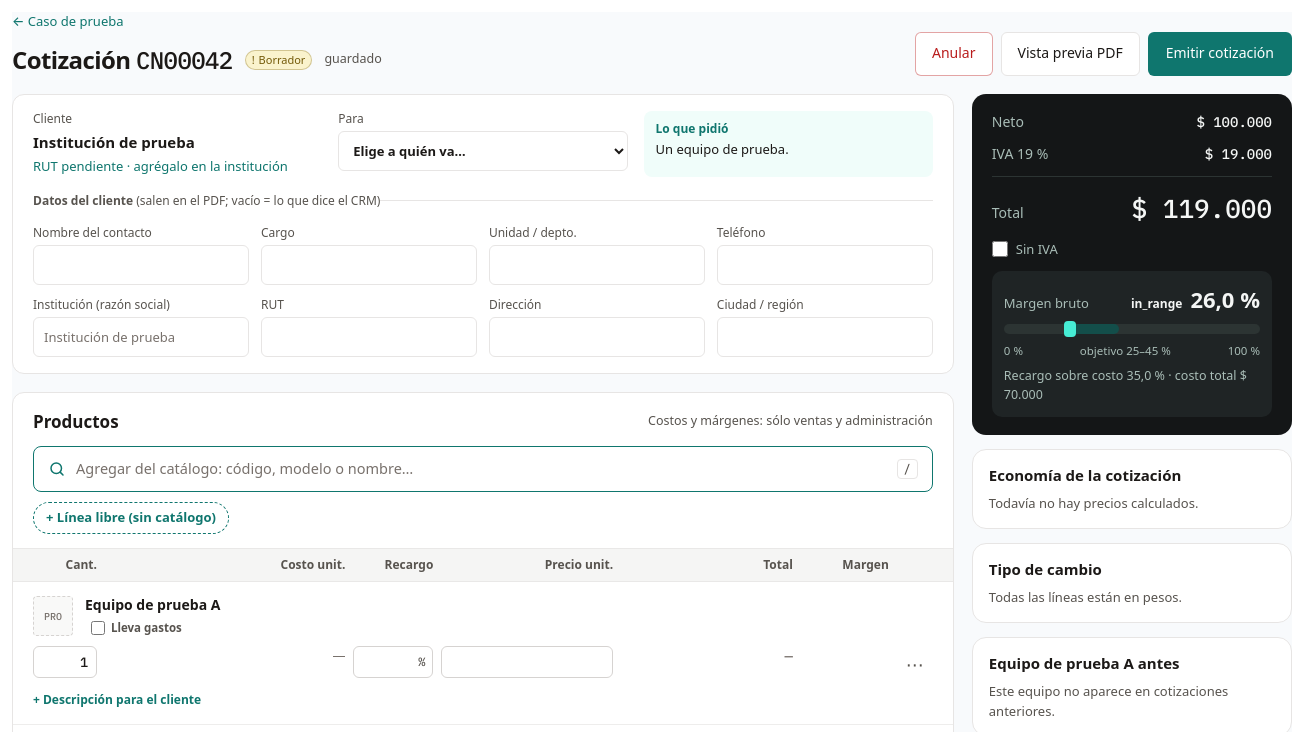
Test case: Cotizador page — the draft editor › offers a retry when the save fails
Step 1. Replace the text in the field named "Cantidad de la línea 1" with "2" → (65, 662), box [33, 646, 97, 678]
Wait 1250 ms
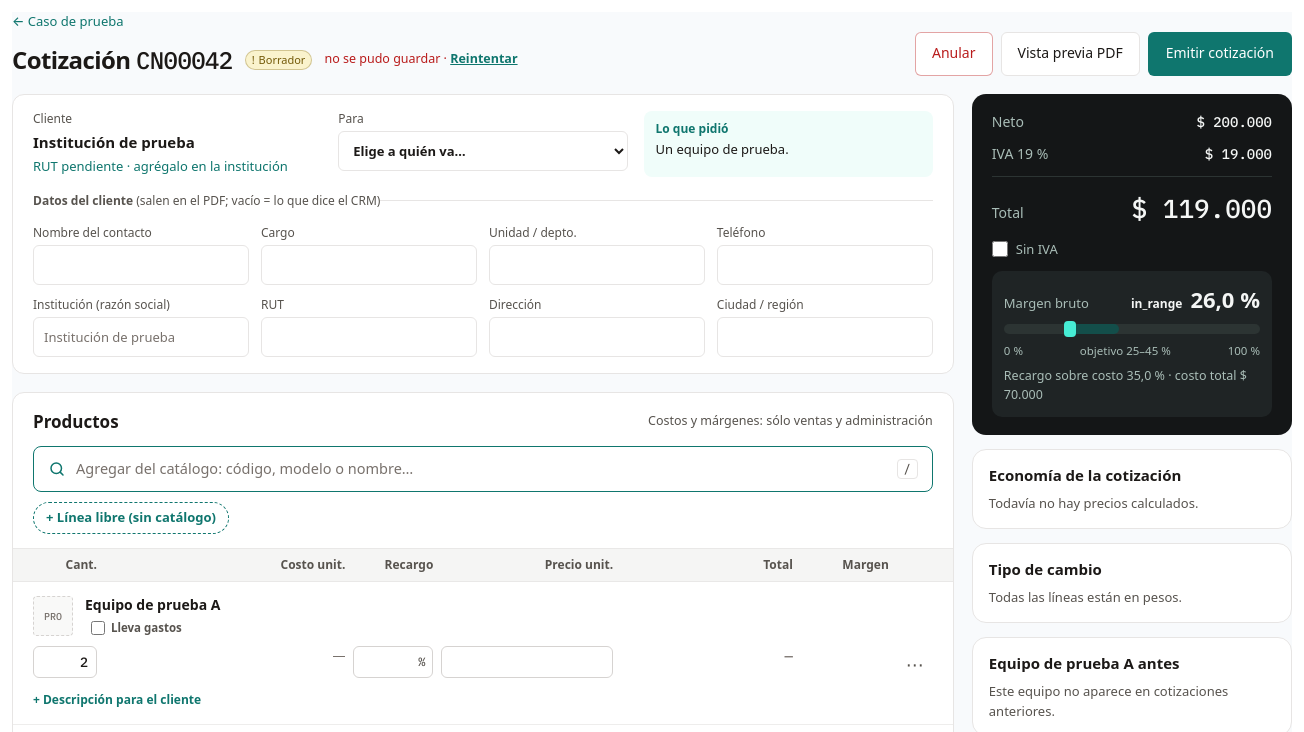
Step 2. Click the button "Reintentar" → (484, 60), box [450, 50, 518, 69]
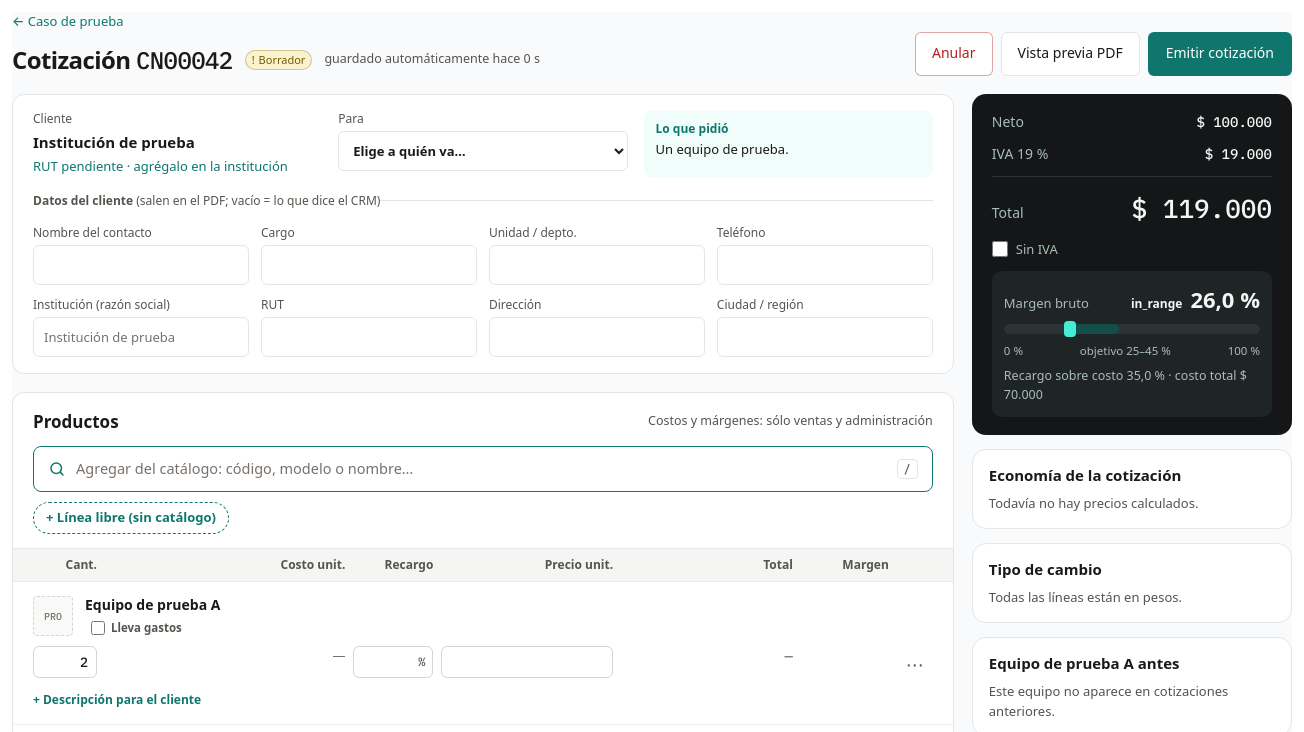
Expected: the text "guardado automáticamente hace 0 s" is shown, [324, 50, 540, 69]
